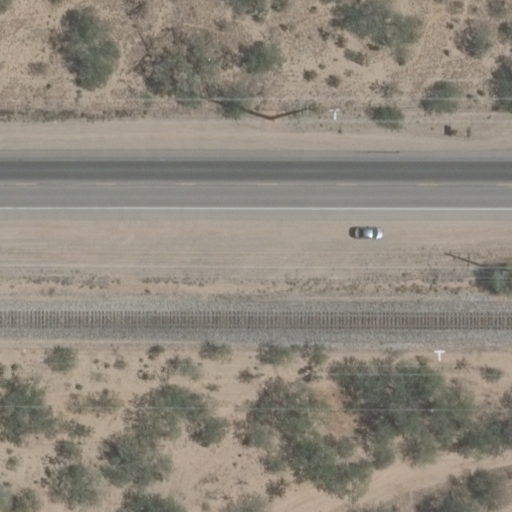DT: (271, 102, 309, 120), (485, 256, 512, 270)
